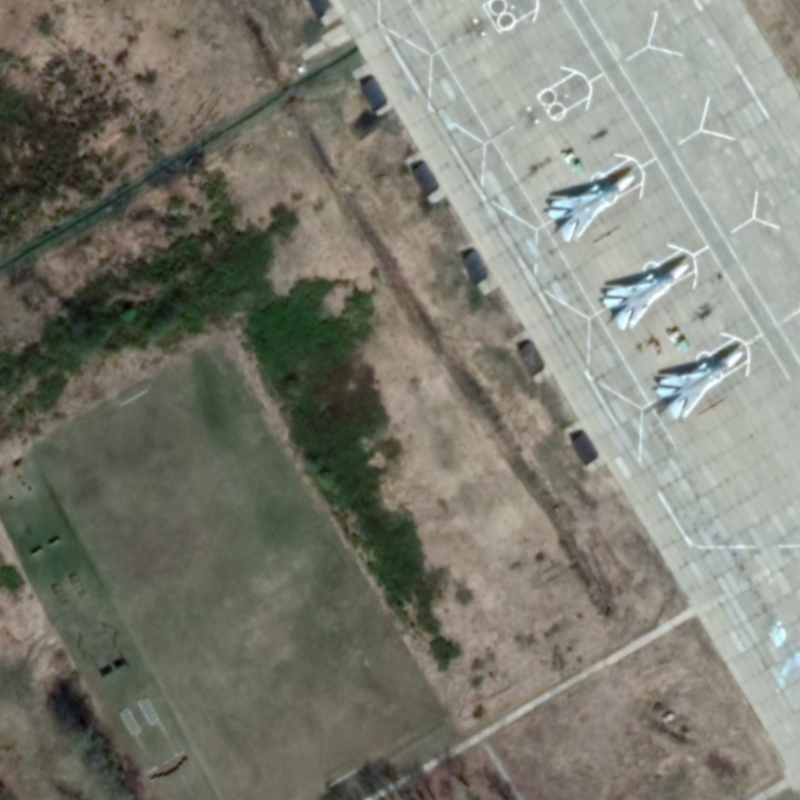A20: (653, 349, 745, 422), (546, 173, 638, 245), (599, 261, 693, 331)
